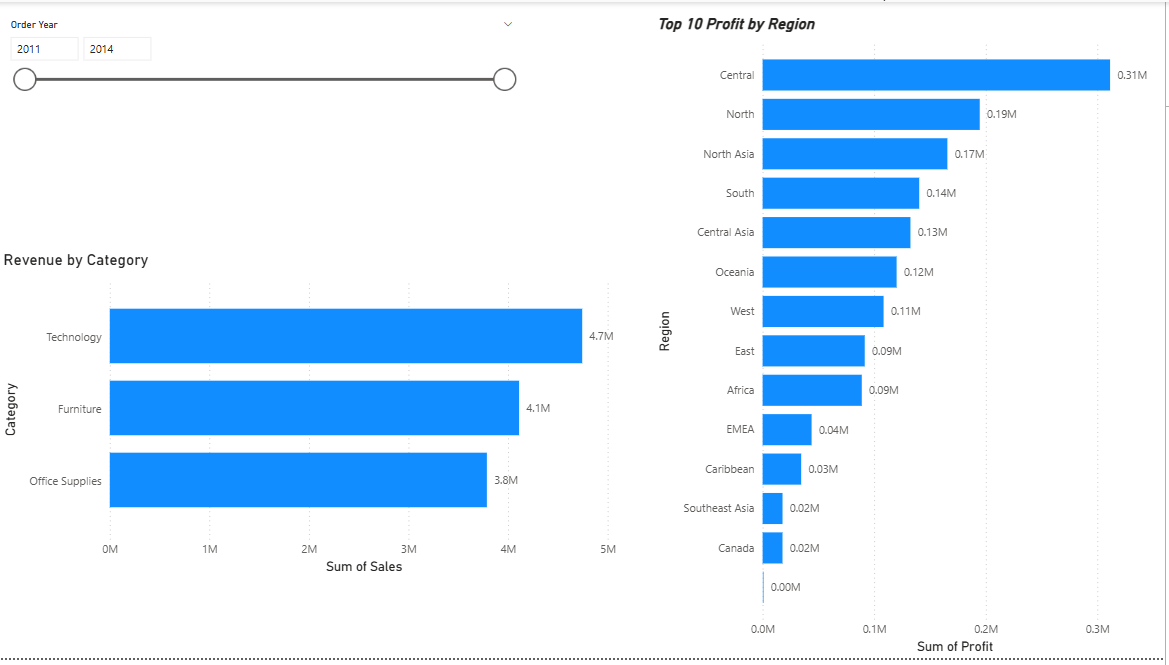

The page's visual inventory and layout, read from the dashboard file:
{"tool":"powerbi","page":{"name":"Page 2","canvas":[1280,720],"ordinal":1},"visuals":[{"type":"clusteredBarChart","title":"Revenue  by Category","fields":{"Category":["Superstore_analysis.Category"],"Y":["Sum(Superstore_analysis.Sales)"]},"box":[0,273.1,694.3,359.5],"z":0},{"type":"clusteredBarChart","title":"Top 10 Profit by Region","fields":{"Y":["Sum(Superstore_analysis.Profit)"],"Category":["Superstore_analysis.Region"]},"box":[717.7,13.7,562.6,706.7],"z":1000},{"type":"slicer","fields":{"Values":["Superstore_analysis.Order Year"]},"box":[0,13.7,576.3,130.4],"z":2000}]}

Visuals, with their boxes in screenshot pixels (x1, y1, x2, y2), scaled from the page's 1280x720 canvas onto the 1169x665 screenshot:
"Revenue  by Category" clusteredBarChart: 0,252,634,584
"Top 10 Profit by Region" clusteredBarChart: 655,13,1168,664
slicer - Superstore_analysis.Order Year: 0,13,526,133
